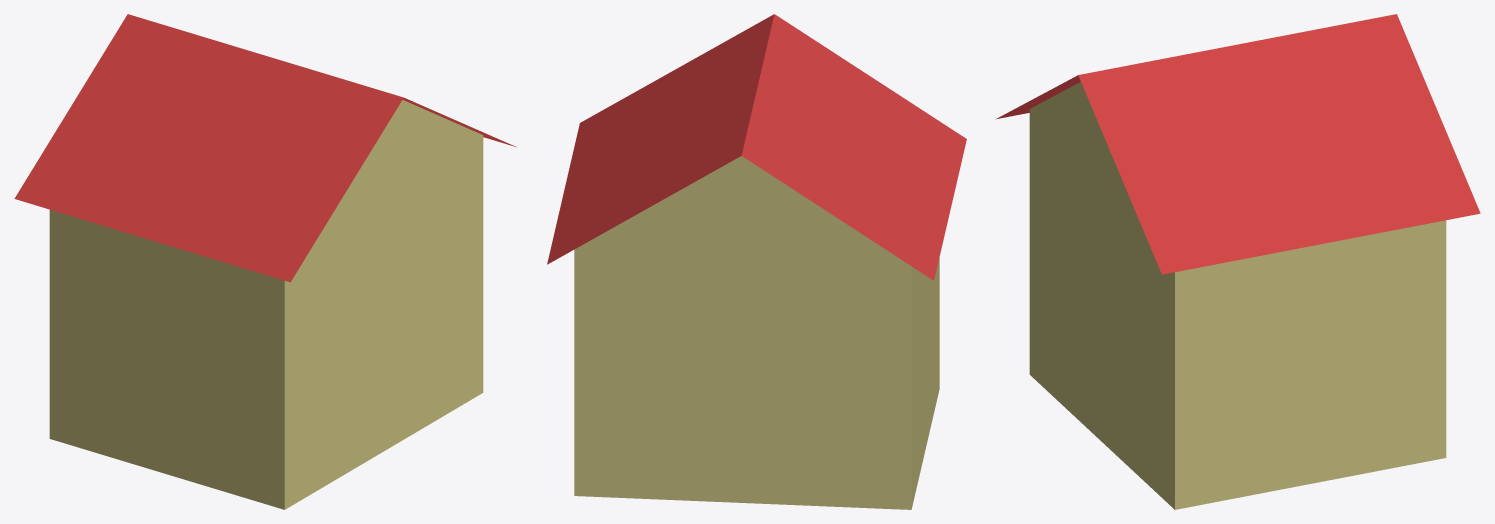
3 views of the same model, side by side, from view 1: azimuth 30°, elevation 25°; view 2: azimuth 150°, elevation 25°; view 3: azimuth 270°, elevation 25° (orthographic). The views are drawn at different scales.
Visible parts, largest first — view 1: group_5, group_3, group_4; view 2: group_5, group_3, group_4; view 3: group_5, group_3, group_4.
Part boxes in pixels (left/top/right/bottom): group_5: left=49, top=100, right=483, bottom=509; group_3: left=50, top=14, right=516, bottom=282; group_4: left=14, top=14, right=288, bottom=281; group_5: left=574, top=156, right=939, bottom=509; group_3: left=547, top=14, right=966, bottom=264; group_4: left=547, top=14, right=966, bottom=280; group_5: left=1029, top=82, right=1446, bottom=509; group_3: left=1001, top=14, right=1480, bottom=274; group_4: left=996, top=14, right=1479, bottom=274.
Bounding box in the file's own units: 14.78 × 14.01 × 11.82.
